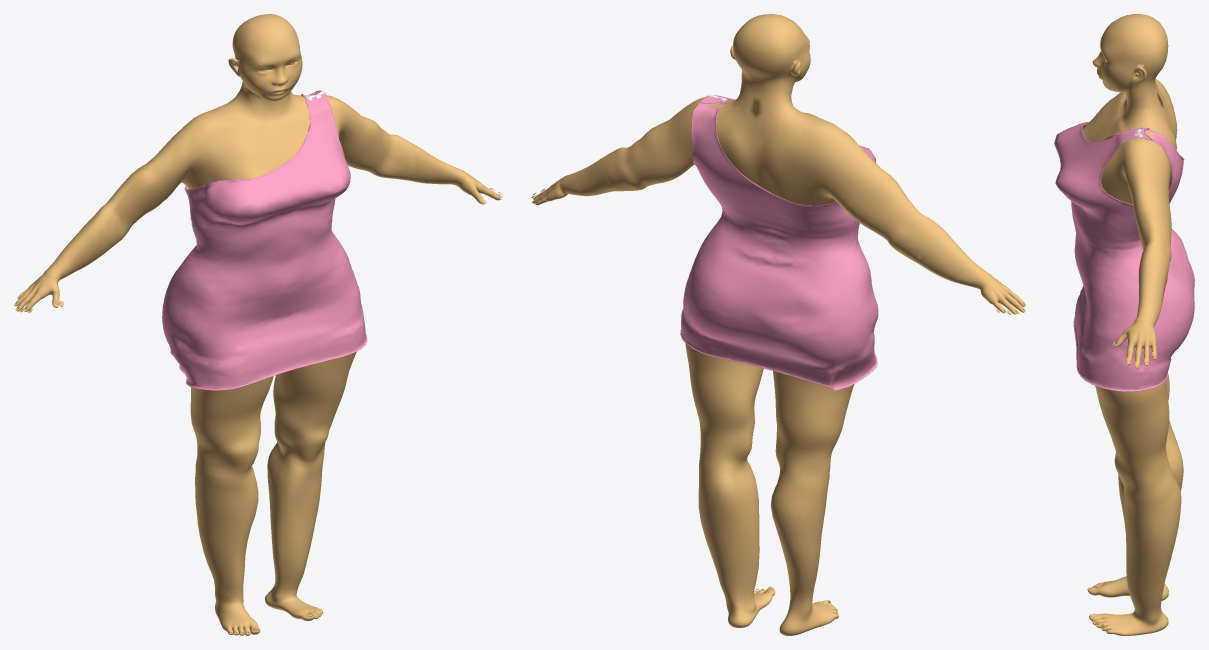
The model's file is dress1.glb.
The picture shows the model from 3 angles, left to right: view 1: azimuth 30°, elevation 25°; view 2: azimuth 150°, elevation 25°; view 3: azimuth 270°, elevation 25°; orthographic projection.
Parts seen in each view (by area): view 1: Body, WhiteDress; view 2: Body, WhiteDress; view 3: Body, WhiteDress.
Boxes of the visible parts, bbox=[...] form: Body: bbox=[14, 14, 501, 635]; WhiteDress: bbox=[162, 90, 367, 390]; Body: bbox=[532, 14, 1025, 635]; WhiteDress: bbox=[680, 94, 878, 390]; Body: bbox=[1082, 14, 1183, 635]; WhiteDress: bbox=[1054, 122, 1194, 391].
Bounding box in the file's own units: 1.59 × 1.88 × 0.3984.
